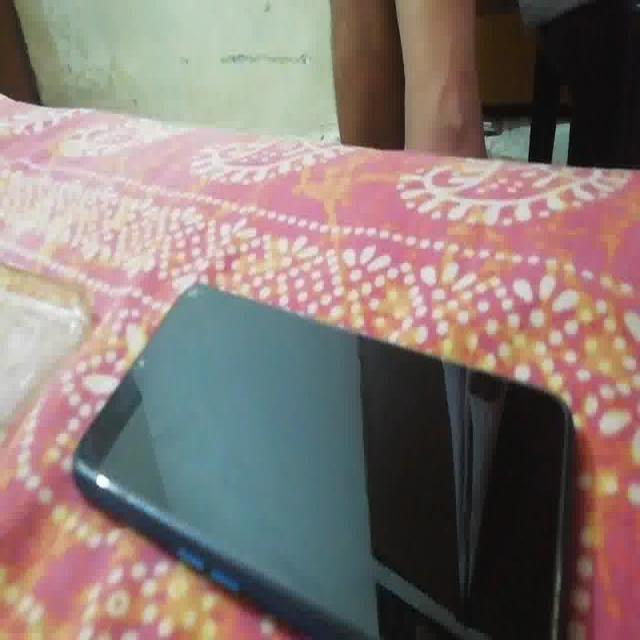Phone: (70, 278, 576, 640)
